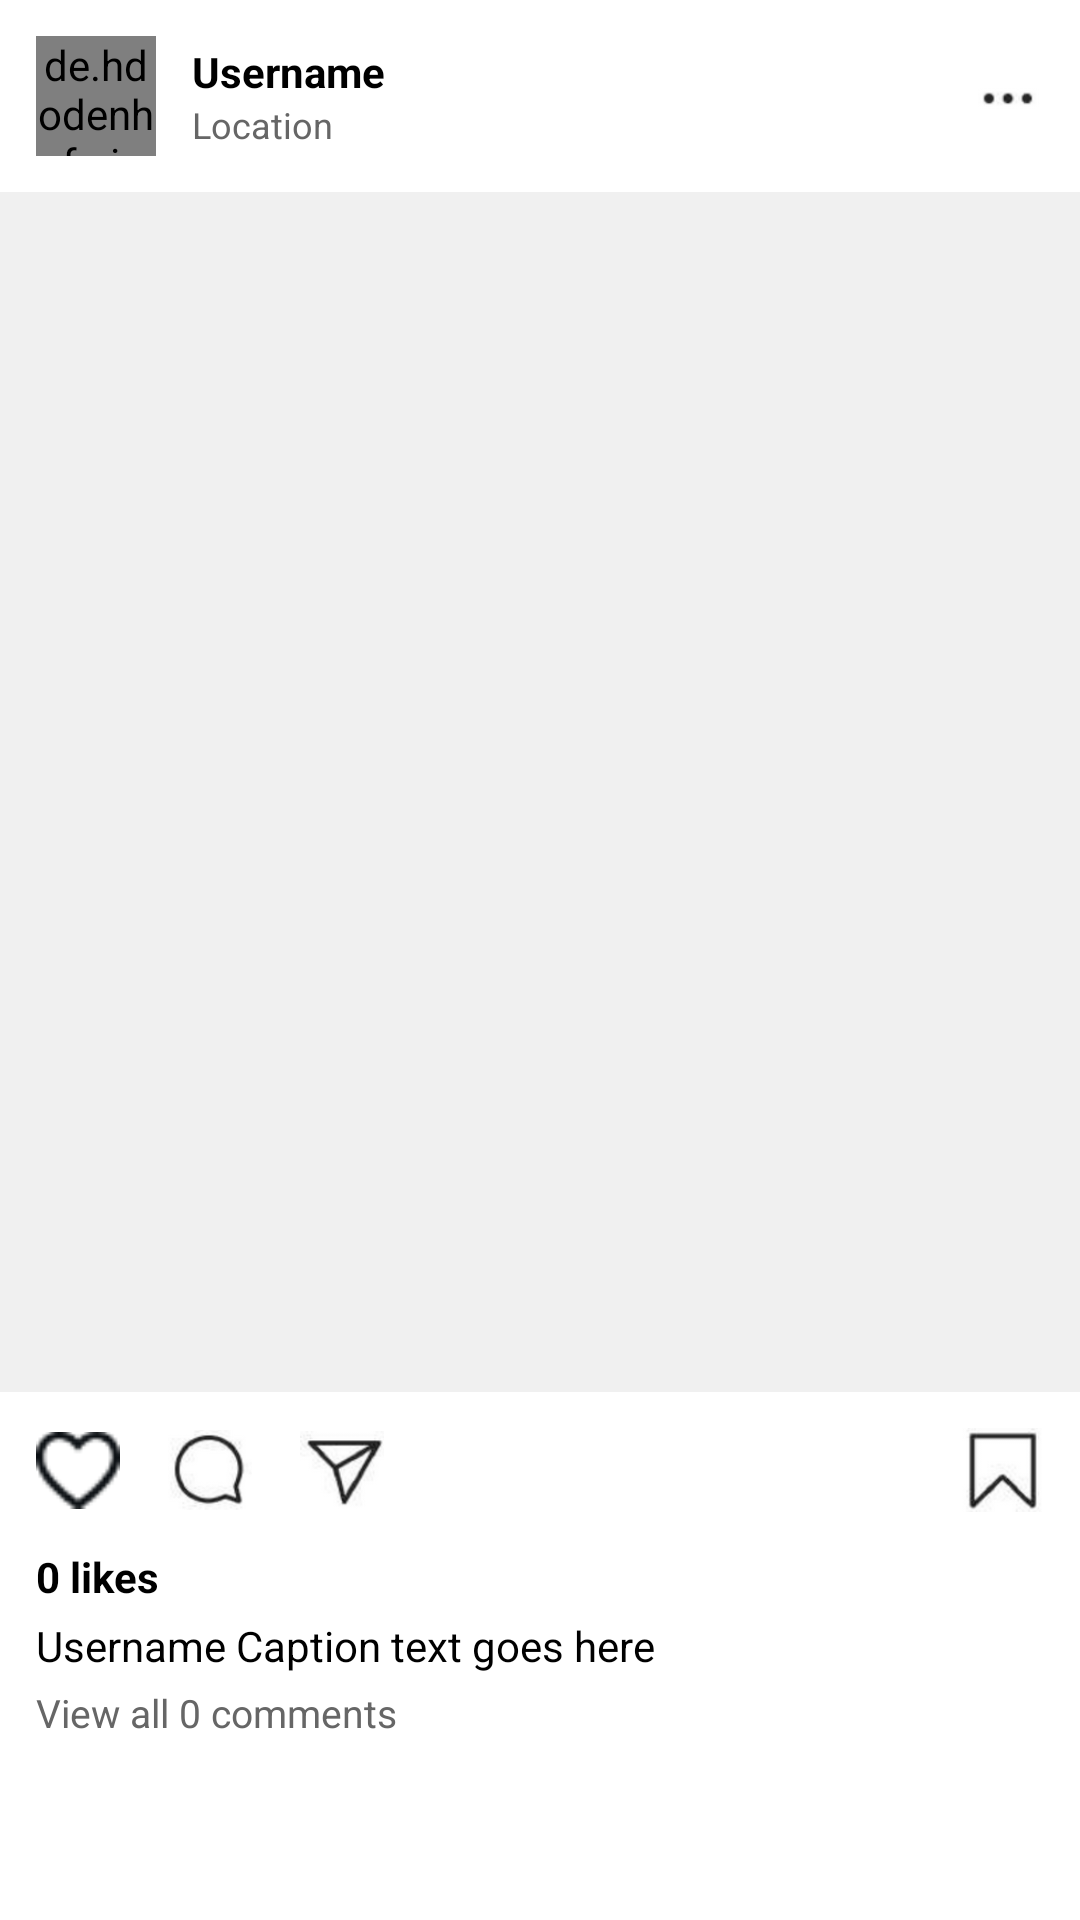

Named icons in this screenshot (1080*1920) and their bounding boxes, {"x1": x1, "y1": y1, "x2": x2, "y2": y2}:
heart: {"x1": 36, "y1": 1432, "x2": 120, "y2": 1509}
more: {"x1": 983, "y1": 92, "x2": 1033, "y2": 104}
post comment: {"x1": 174, "y1": 1435, "x2": 244, "y2": 1504}
post save: {"x1": 969, "y1": 1432, "x2": 1037, "y2": 1509}
post share: {"x1": 307, "y1": 1440, "x2": 382, "y2": 1505}
